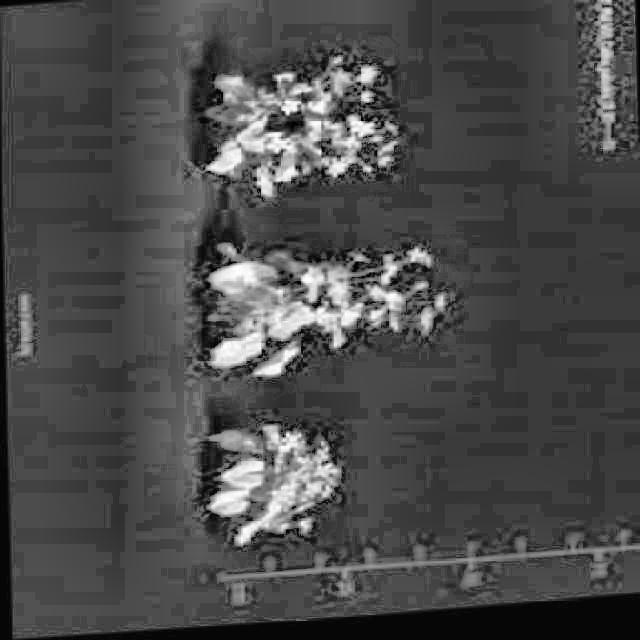plants: (194, 223, 500, 412), (155, 42, 431, 212), (125, 406, 378, 563)
